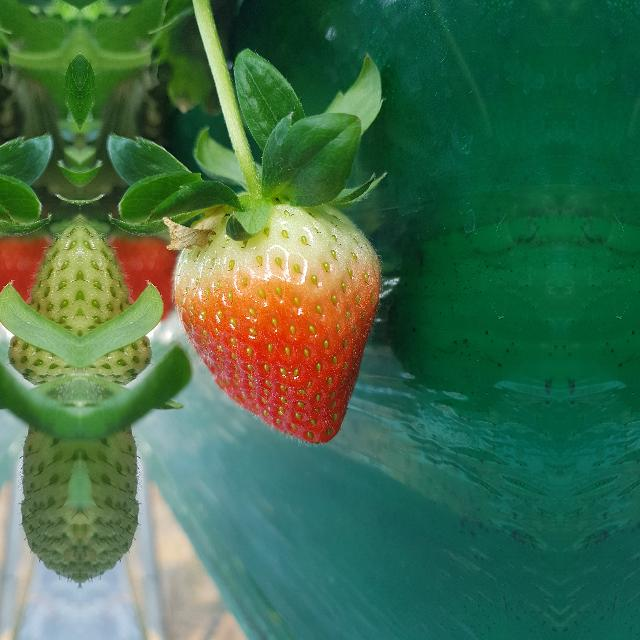Health_25: (80, 382, 150, 584), (10, 382, 80, 584), (80, 214, 154, 386), (6, 214, 80, 386)
Health_75: (170, 207, 382, 446)
